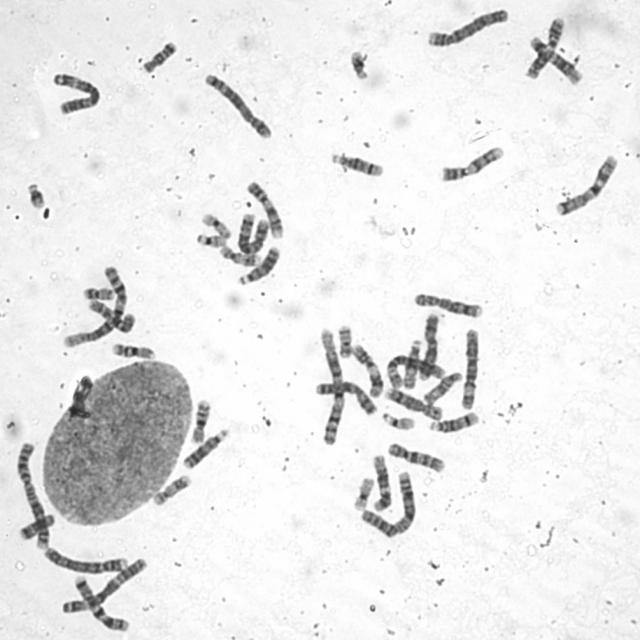A1: (60, 262, 130, 349), (316, 325, 346, 447)
A2: (357, 468, 417, 540), (13, 438, 51, 550)
A3: (58, 554, 148, 616), (49, 69, 102, 117)
B4: (423, 6, 510, 48), (41, 542, 128, 574)
B5: (200, 70, 274, 140), (234, 210, 270, 256)
C10: (384, 439, 446, 474), (84, 296, 136, 334)
C11: (523, 14, 566, 80), (349, 341, 385, 400)
C12: (526, 34, 583, 86), (369, 451, 393, 514)
C6: (382, 350, 446, 390), (456, 324, 481, 412)
C7: (552, 152, 620, 218), (70, 573, 130, 633)
C8: (382, 384, 445, 421), (411, 289, 483, 319)
C9: (439, 143, 505, 183), (244, 178, 285, 241)
D13: (180, 426, 229, 470), (234, 243, 282, 286)
D14: (328, 150, 386, 178), (427, 408, 480, 434)
D15: (420, 369, 465, 406), (401, 336, 424, 391)
E16: (188, 396, 212, 444), (110, 339, 156, 361)
E17: (149, 472, 192, 506), (216, 243, 262, 267)
E18: (140, 38, 178, 74), (17, 511, 56, 540)
F19: (351, 474, 375, 512), (200, 211, 232, 239)
F20: (336, 322, 354, 360), (80, 283, 114, 301)
G21: (347, 48, 371, 80), (24, 179, 47, 209)
G22: (379, 409, 416, 431), (194, 231, 228, 248)
X: (312, 378, 379, 417), (416, 310, 442, 382)
